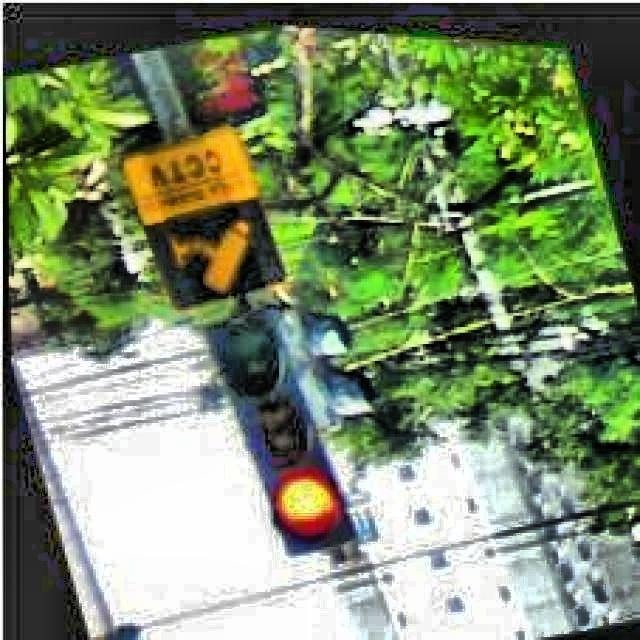red: (207, 315, 356, 559)
